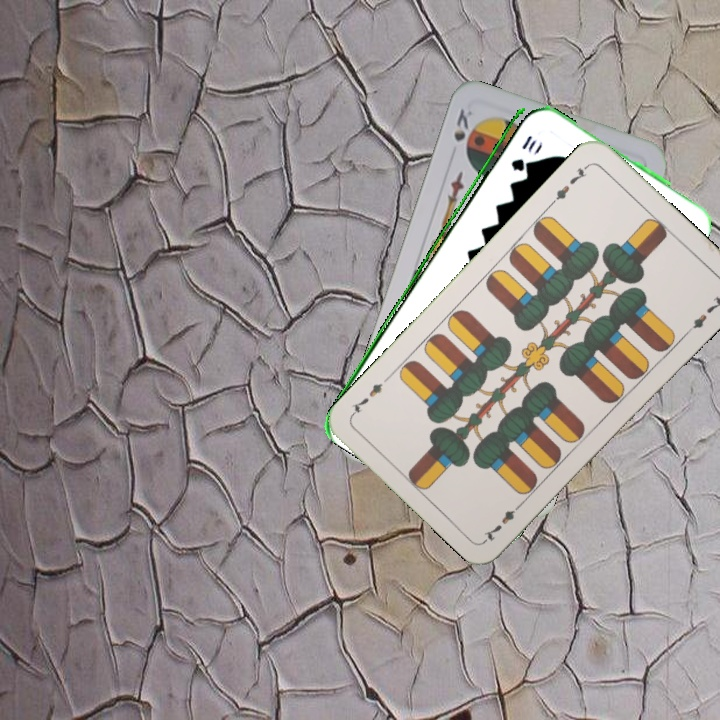E7: (480, 497, 527, 544), (547, 160, 593, 207)
G10: (506, 131, 535, 174)
SK: (449, 104, 475, 144)
